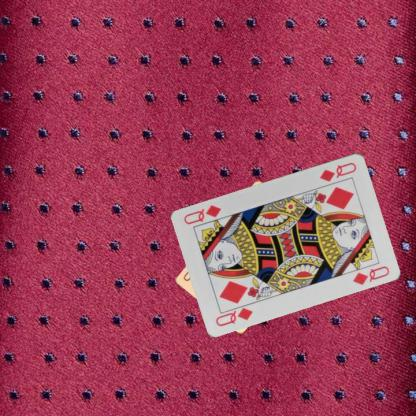Qd: (213, 299, 254, 328), (317, 160, 358, 182)
